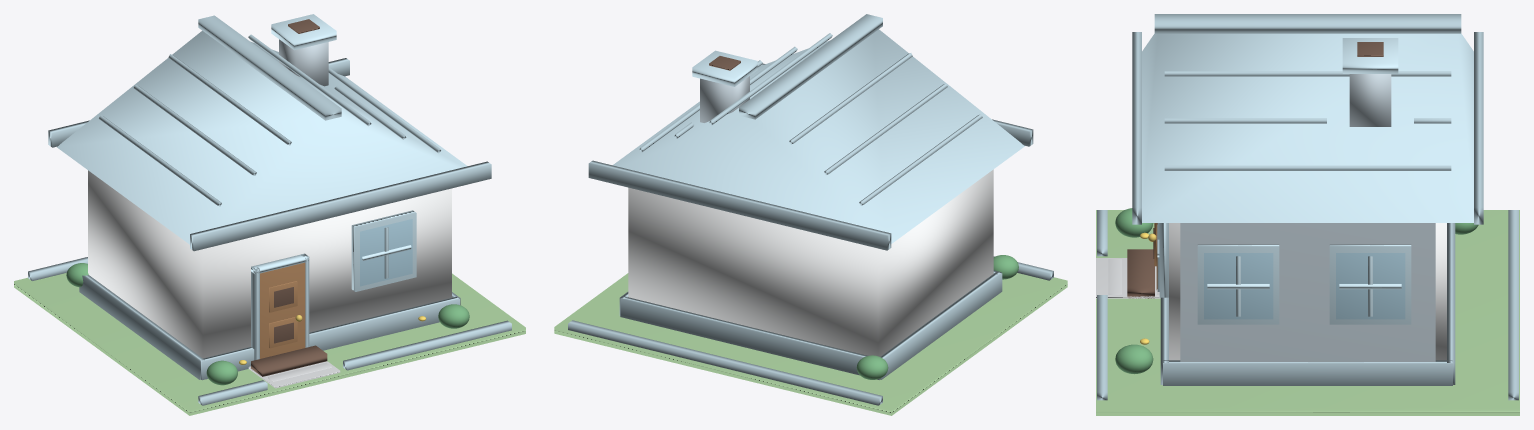
File: casa_detallada_lightBlue.glb
3 renders of one model, left to right at view 1: azimuth 30°, elevation 25°; view 2: azimuth 150°, elevation 25°; view 3: azimuth 270°, elevation 25°, orthographic. The views are drawn at different scales.
Parts seen in each view (by area): view 1: Casa_Techo_Rojo_Detallado, Casa_Paredes_Suaves, Casa_Grama_Base_Redondeada, Casa_Techo_Fascia_Frontal, Casa_Zocalo_Frontal_Rojo, Casa_Techo_Cumbrera_Roja, Casa_Zocalo_Izquierdo_Rojo, Ventana_Frontal_Principal_Cristal, Puerta_Cuerpo_Madera, Casa_Borde_Base_Frontal_Derecho, Ventana_Frontal_Principal_Marco_Azul, Casa_Chimenea_Cuerpo (+17 smaller); view 2: Casa_Techo_Rojo_Detallado, Casa_Paredes_Suaves, Casa_Grama_Base_Redondeada, Casa_Techo_Fascia_Trasero, Casa_Zocalo_Trasero_Rojo, Casa_Borde_Base_Trasero, Casa_Techo_Cumbrera_Roja, Casa_Zocalo_Izquierdo_Rojo, Casa_Chimenea_Cuerpo, Casa_Chimenea_Tapa_Roja, Casa_Techo_Linea_Teja_Der_1, Casa_Techo_Linea_Teja_Izq_2 (+5 smaller); view 3: Casa_Techo_Rojo_Detallado, Casa_Grama_Base_Redondeada, Casa_Pared_Lateral_Azulada, Casa_Zocalo_Derecho_Rojo, Casa_Techo_Cumbrera_Roja, Ventana_Lateral_Frontal_Cristal, Ventana_Lateral_Trasera_Cristal, Casa_Paredes_Suaves, Casa_Chimenea_Cuerpo, Ventana_Lateral_Frontal_Marco_Azul, Ventana_Lateral_Trasera_Marco_Azul, Casa_Borde_Base_Trasero (+17 smaller).
Boxes of the visible parts, x1,y1,x2,y2 form: Casa_Techo_Rojo_Detallado: [57, 30, 467, 244]; Casa_Paredes_Suaves: [88, 170, 451, 358]; Casa_Grama_Base_Redondeada: [14, 273, 525, 415]; Casa_Techo_Fascia_Frontal: [190, 161, 491, 251]; Casa_Zocalo_Frontal_Rojo: [200, 296, 459, 380]; Casa_Techo_Cumbrera_Roja: [198, 15, 341, 120]; Casa_Zocalo_Izquierdo_Rojo: [79, 275, 204, 379]; Ventana_Frontal_Principal_Cristal: [360, 219, 412, 286]; Puerta_Cuerpo_Madera: [260, 262, 305, 358]; Casa_Borde_Base_Frontal_Derecho: [343, 320, 511, 370]; Ventana_Frontal_Principal_Marco_Azul: [351, 210, 416, 291]; Casa_Chimenea_Cuerpo: [279, 39, 328, 86]; Casa_Techo_Rojo_Detallado: [613, 29, 1024, 243]; Casa_Paredes_Suaves: [628, 169, 993, 356]; Casa_Grama_Base_Redondeada: [554, 273, 1067, 415]; Casa_Techo_Fascia_Trasero: [588, 160, 891, 250]; Casa_Zocalo_Trasero_Rojo: [620, 296, 879, 379]; Casa_Borde_Base_Trasero: [568, 320, 882, 405]; Casa_Techo_Cumbrera_Roja: [739, 14, 882, 119]; Casa_Zocalo_Izquierdo_Rojo: [880, 272, 1002, 379]; Casa_Chimenea_Cuerpo: [700, 76, 749, 122]; Casa_Chimenea_Tapa_Roja: [692, 50, 757, 86]; Casa_Techo_Linea_Teja_Der_1: [709, 33, 832, 124]; Casa_Techo_Linea_Teja_Izq_2: [824, 83, 947, 174]; Casa_Techo_Rojo_Detallado: [1142, 33, 1473, 222]; Casa_Grama_Base_Redondeada: [1096, 210, 1519, 415]; Casa_Pared_Lateral_Azulada: [1180, 223, 1435, 361]; Casa_Zocalo_Derecho_Rojo: [1163, 360, 1452, 385]; Casa_Techo_Cumbrera_Roja: [1154, 14, 1461, 33]; Ventana_Lateral_Frontal_Cristal: [1204, 253, 1273, 319]; Ventana_Lateral_Trasera_Cristal: [1336, 253, 1405, 319]; Casa_Paredes_Suaves: [1169, 223, 1446, 360]; Casa_Chimenea_Cuerpo: [1349, 74, 1391, 126]; Ventana_Lateral_Frontal_Marco_Azul: [1197, 244, 1279, 324]; Ventana_Lateral_Trasera_Marco_Azul: [1329, 244, 1411, 324]; Casa_Borde_Base_Trasero: [1508, 210, 1518, 400].
Bounding box in the file's own units: 1.35 × 0.9689 × 1.22.
